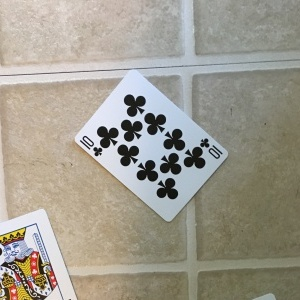card: (71, 68, 229, 225)
